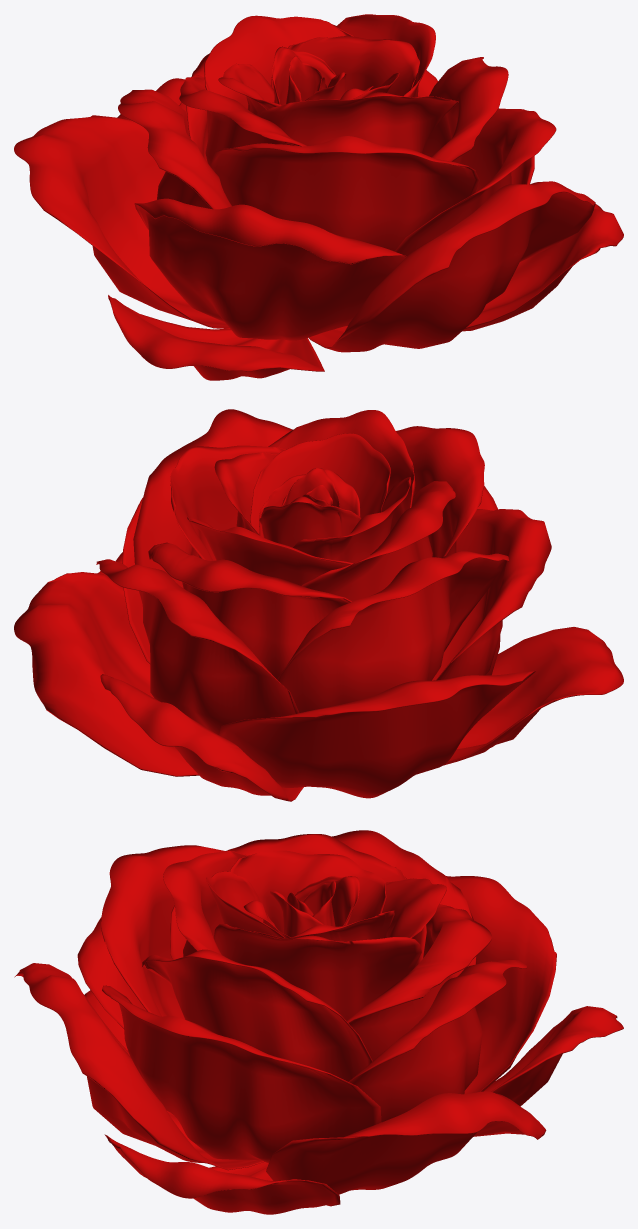
File: Rose_Alice_Big.fbx
3 renders of one model, top to bottom at view 1: azimuth 30°, elevation 25°; view 2: azimuth 150°, elevation 25°; view 3: azimuth 270°, elevation 25°, orthographic. The views are drawn at different scales.
Parts seen in each view (by area): view 1: ruža; view 2: ruža; view 3: ruža.
Boxes of the visible parts, bbox=[...] form: ruža: bbox=[14, 14, 623, 380]; ruža: bbox=[14, 409, 623, 801]; ruža: bbox=[14, 830, 623, 1214].
Size of the model in its own units: 8.52 by 4.69 by 9.04.
